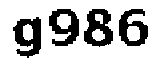6: (118, 9, 151, 50)
8: (84, 8, 115, 52)
9: (47, 8, 82, 51)
g: (7, 15, 45, 60)
